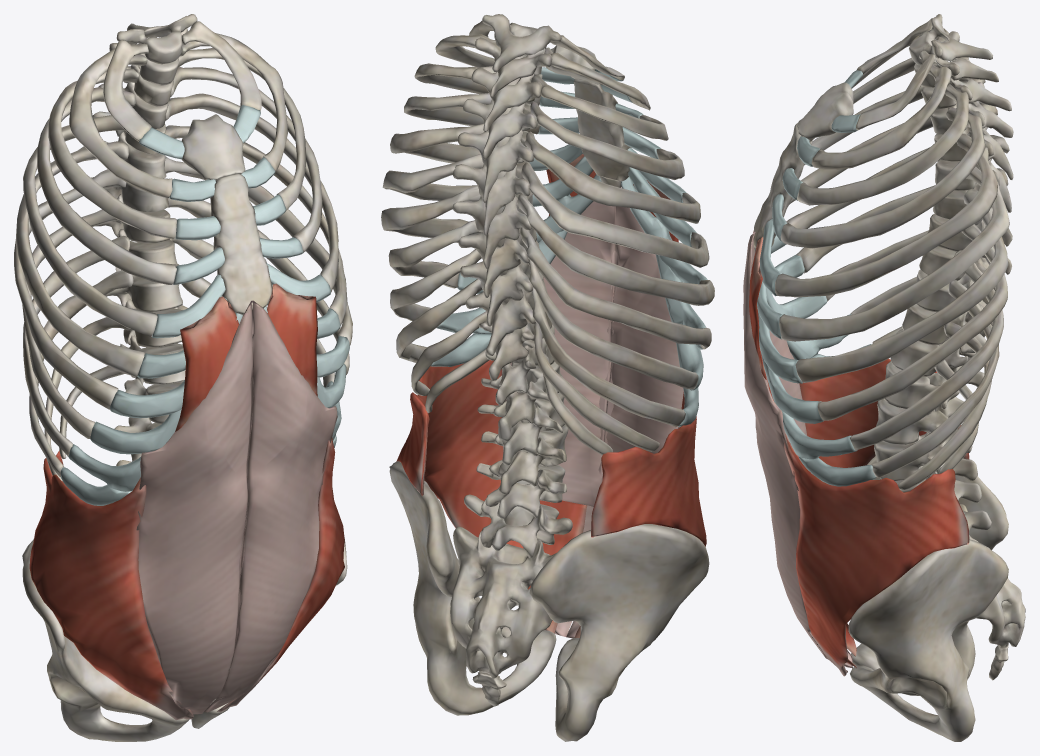
The model's file is abs-middle.glb.
The picture shows the model from 3 angles, left to right: view 1: azimuth 30°, elevation 25°; view 2: azimuth 150°, elevation 25°; view 3: azimuth 270°, elevation 25°; orthographic projection. The views are drawn at different scales.
Parts seen in each view (by area): view 1: Right_internal_abdominal_oblique_aponeurosis_anterior_lamina, Left_internal_abdominal_oblique_aponeurosis_anterior_lamina, Right_internal_abdominal_oblique, Right_hip_bone__os_coxa_or_innominate_bone_, Body_of_sternum, Right_6th_rib, Right_4th_rib, Right_5th_rib, Left_internal_abdominal_oblique, Right_rectus_abdominis, Right_3rd_rib, Right_2nd_rib (+47 smaller); view 2: Right_hip_bone__os_coxa_or_innominate_bone_, Left_hip_bone__os_coxa_or_innominate_bone_, Left_internal_abdominal_oblique, Sacrum, Right_internal_abdominal_oblique, Left_internal_oblique_aponeurosis_posterior_lamina, Right_internal_oblique_aponeurosis_posterior_lamina, Right_7th_rib, Right_6th_rib, Right_8th_rib, Right_5th_rib, Right_9th_rib (+50 smaller); view 3: Left_internal_abdominal_oblique, Left_hip_bone__os_coxa_or_innominate_bone_, Left_internal_abdominal_oblique_aponeurosis_anterior_lamina, Left_6th_rib, Left_5th_rib, Left_7th_rib, Left_4th_rib, Right_internal_abdominal_oblique, Left_8th_rib, Left_3rd_rib, Left_9th_rib, Right_hip_bone__os_coxa_or_innominate_bone_ (+42 smaller).
Part boxes in pixels (box(x1,y1,x2,y2)): Right_internal_abdominal_oblique_aponeurosis_anterior_lamina: box(136, 300, 252, 714); Left_internal_abdominal_oblique_aponeurosis_anterior_lamina: box(204, 300, 337, 712); Right_internal_abdominal_oblique: box(29, 450, 193, 720); Right_hip_bone__os_coxa_or_innominate_bone_: box(22, 539, 189, 741); Body_of_sternum: box(210, 173, 272, 314); Right_6th_rib: box(15, 141, 144, 376); Right_4th_rib: box(37, 87, 176, 284); Right_5th_rib: box(23, 115, 157, 336); Left_internal_abdominal_oblique: box(217, 437, 344, 711); Right_rectus_abdominis: box(175, 296, 238, 431); Right_3rd_rib: box(48, 68, 176, 238); Right_2nd_rib: box(69, 48, 172, 198); Right_hip_bone__os_coxa_or_innominate_bone_: box(529, 524, 709, 741); Left_hip_bone__os_coxa_or_innominate_bone_: box(389, 461, 556, 715); Left_internal_abdominal_oblique: box(396, 360, 523, 548); Sacrum: box(450, 526, 555, 678); Right_internal_abdominal_oblique: box(591, 392, 706, 546); Left_internal_oblique_aponeurosis_posterior_lamina: box(502, 201, 615, 506); Right_internal_oblique_aponeurosis_posterior_lamina: box(604, 187, 683, 453); Right_7th_rib: box(517, 193, 714, 305); Right_6th_rib: box(521, 162, 709, 267); Right_8th_rib: box(520, 227, 711, 349); Right_5th_rib: box(524, 131, 700, 223); Right_9th_rib: box(528, 260, 698, 389); Left_internal_abdominal_oblique: box(784, 434, 969, 676); Left_hip_bone__os_coxa_or_innominate_bone_: box(848, 539, 1008, 741); Left_internal_abdominal_oblique_aponeurosis_anterior_lamina: box(743, 232, 852, 667); Left_6th_rib: box(779, 166, 1009, 341); Left_5th_rib: box(775, 133, 997, 297); Left_7th_rib: box(795, 188, 1008, 382); Left_4th_rib: box(780, 107, 985, 248); Right_internal_abdominal_oblique: box(799, 358, 969, 467); Left_8th_rib: box(817, 224, 1007, 420); Left_3rd_rib: box(796, 84, 968, 205); Left_9th_rib: box(849, 250, 1003, 450); Right_hip_bone__os_coxa_or_innominate_bone_: box(851, 456, 1008, 695).
Bounding box in the file's own units: 0.2836 × 0.6221 × 0.2317.
Materials: 76 (76 with a texture image).
